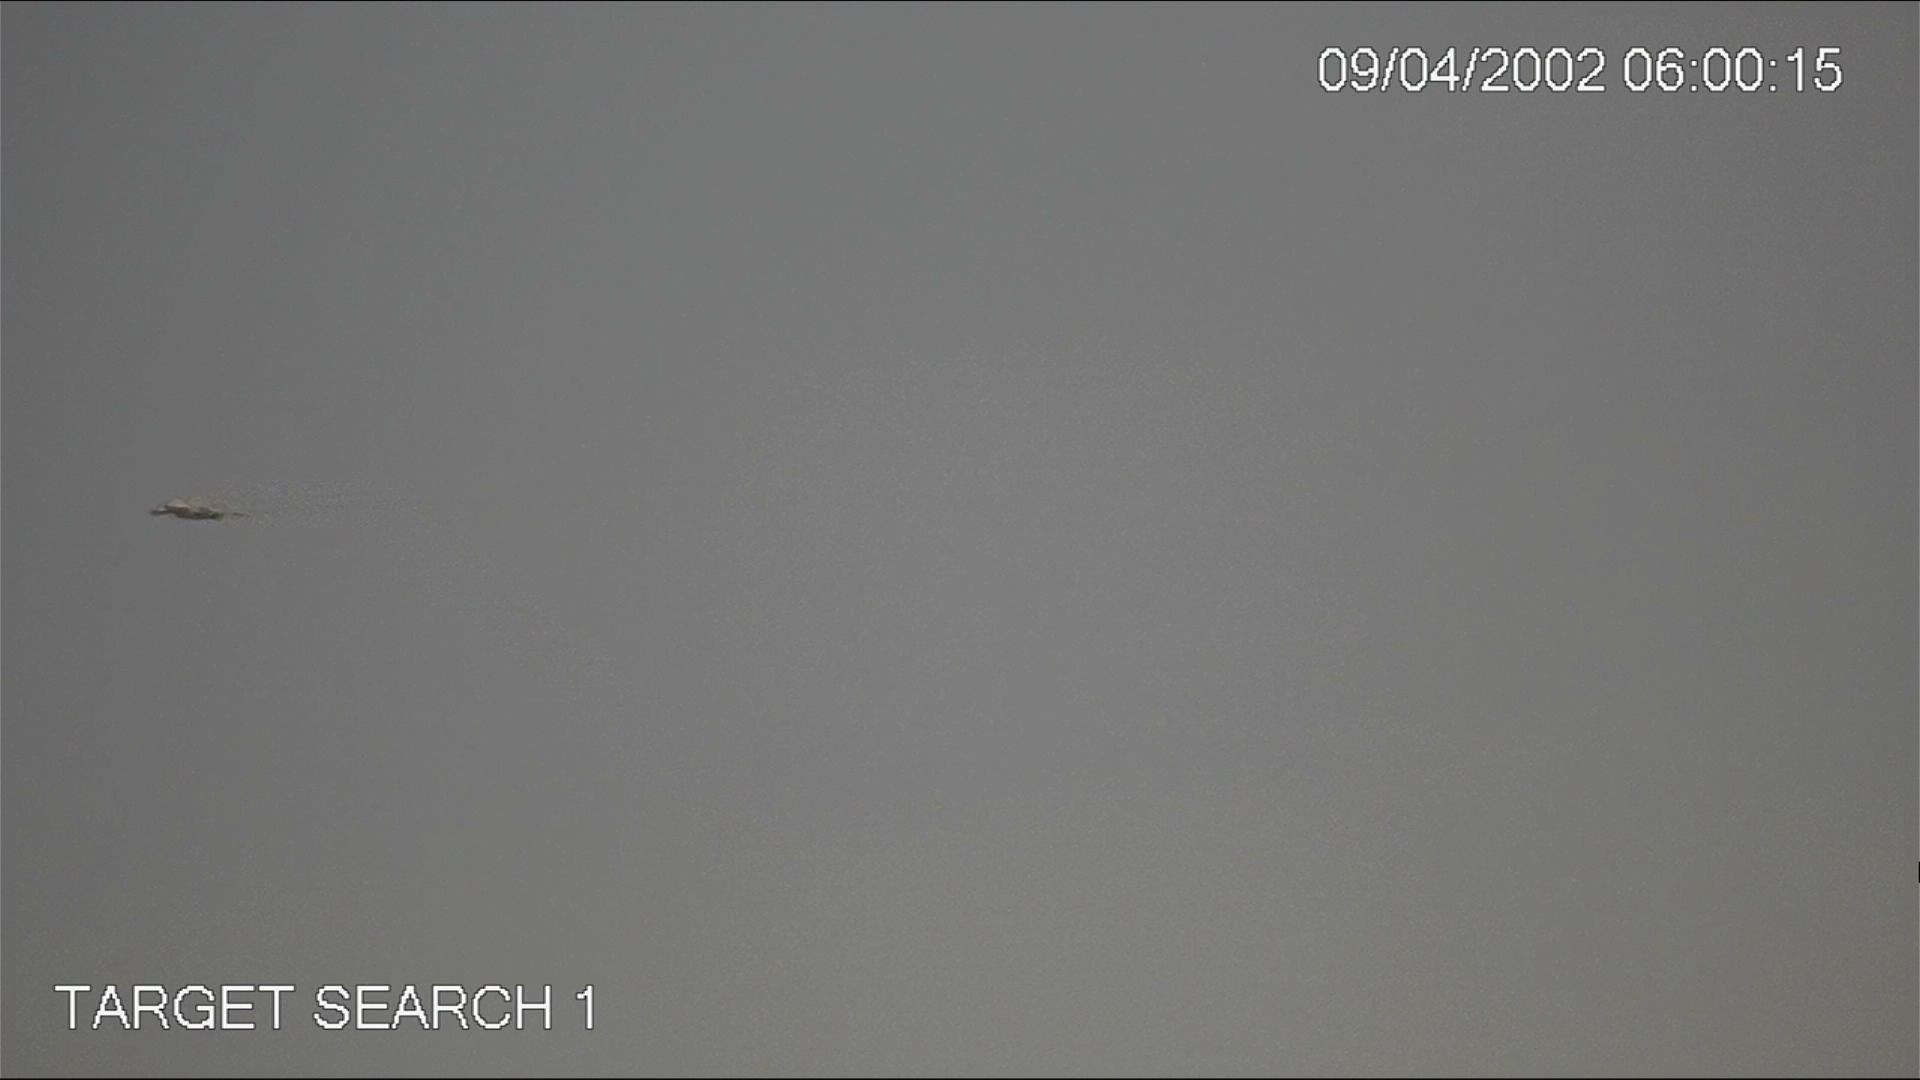SU_30: (146, 493, 243, 524)
